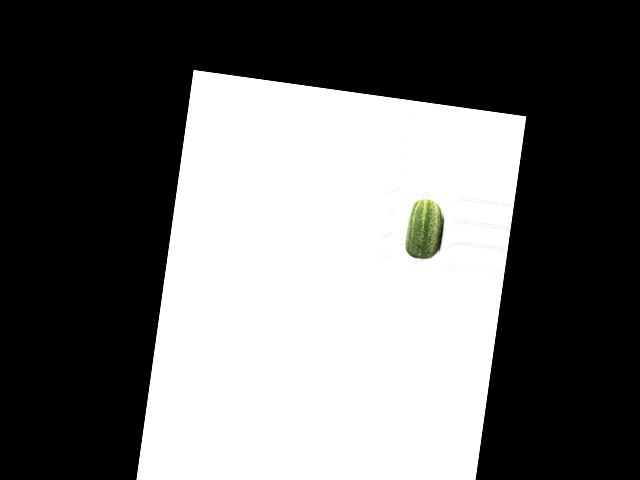cucumber: (403, 197, 446, 262)
